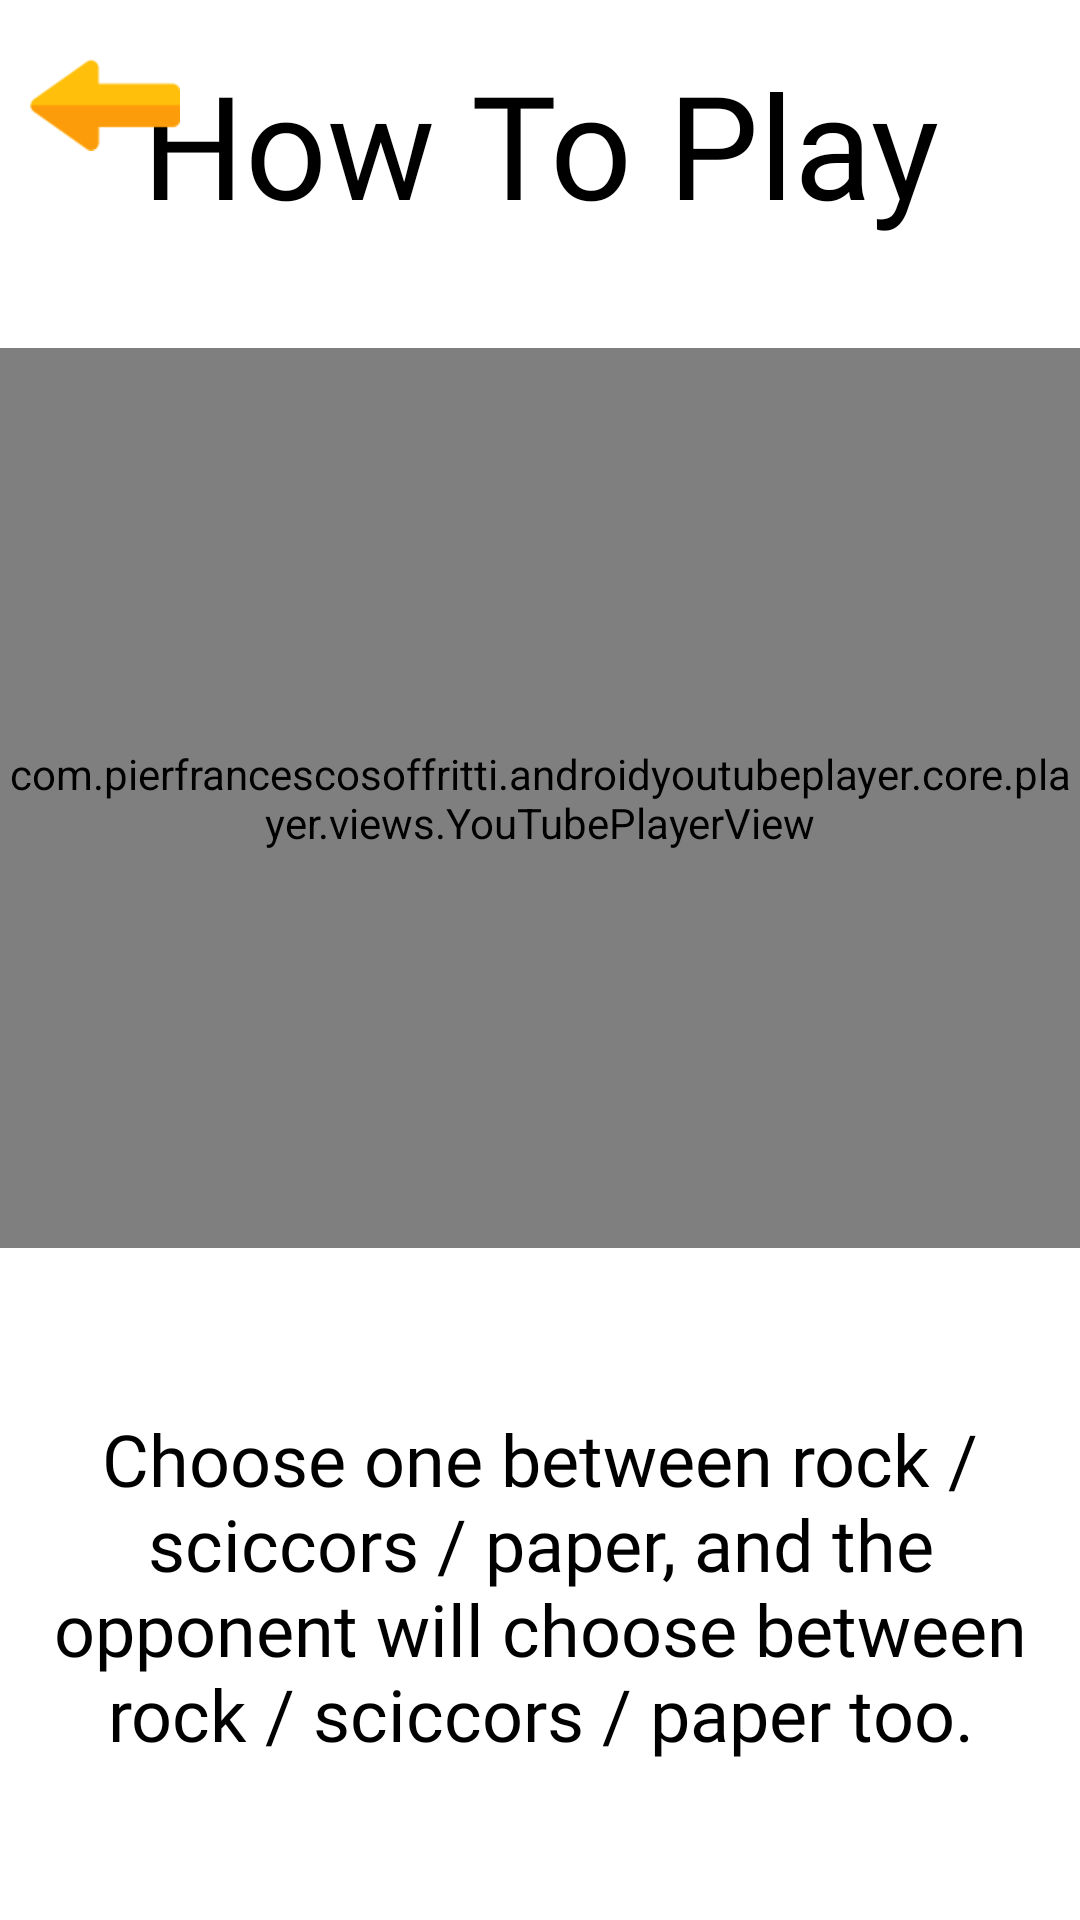

Icons on this 1080x1920 Android screen, each with its box as (x1, y1, x2, y2):
back: (30, 59, 180, 180)
